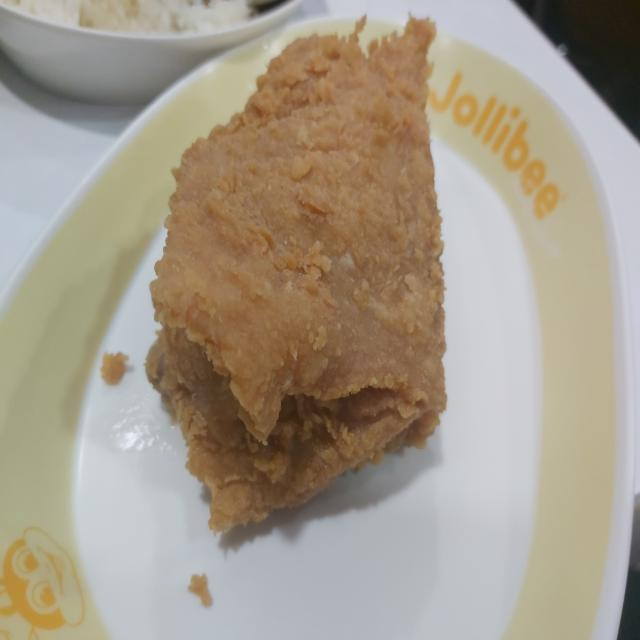Chicken -Fried Chicken-: (139, 2, 465, 550)
